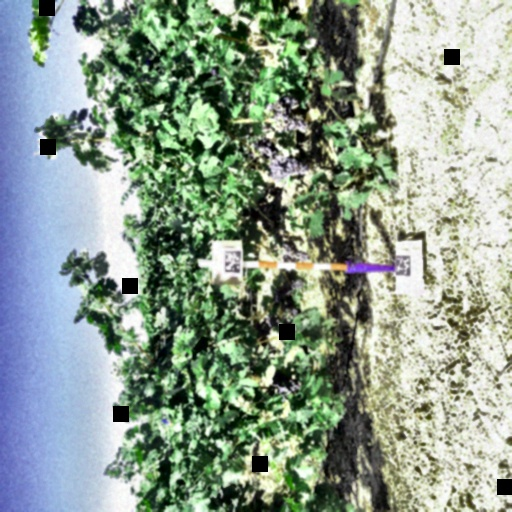QR: (224, 250, 241, 273), (396, 254, 411, 278)
